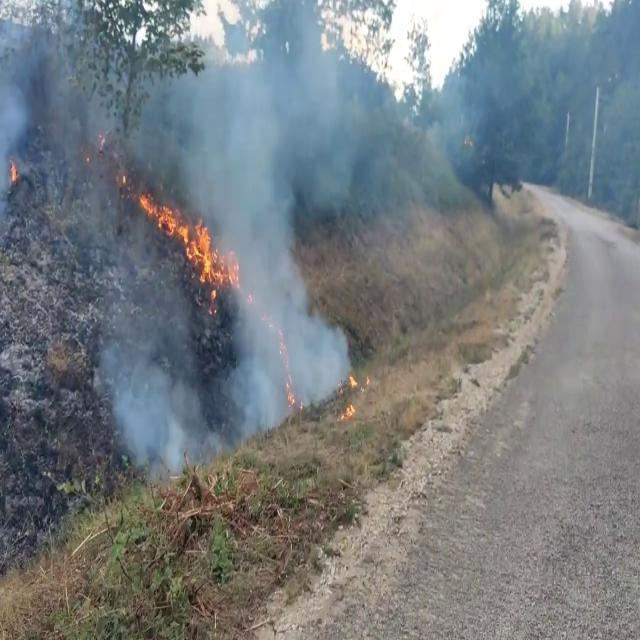Fire: (140, 182, 234, 300)
Smoke: (0, 4, 354, 472)
